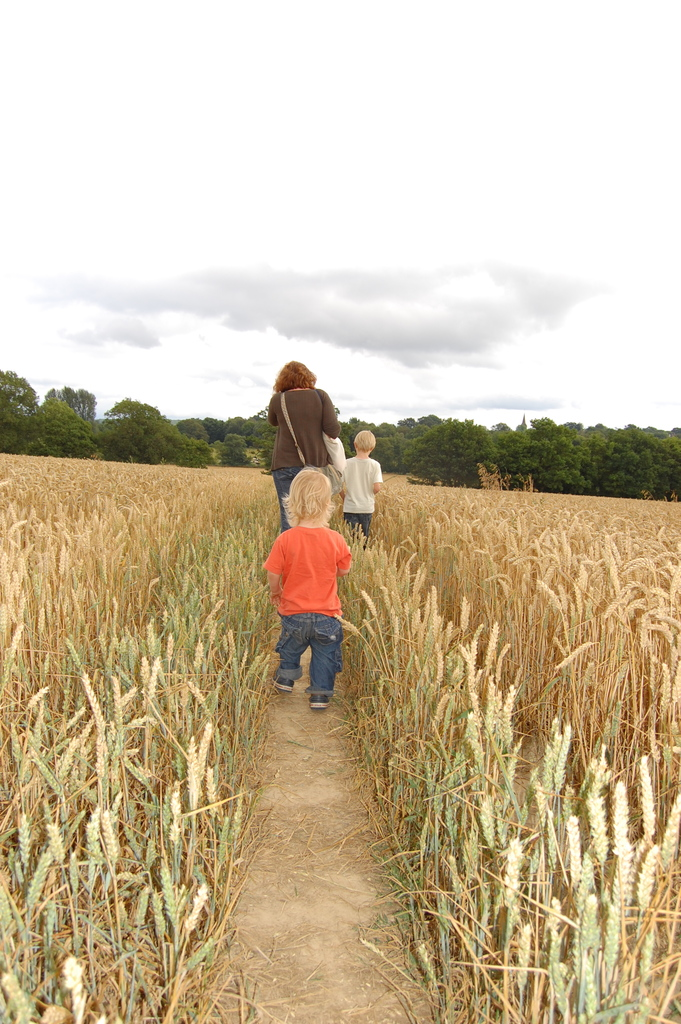person: (338, 428, 384, 548)
